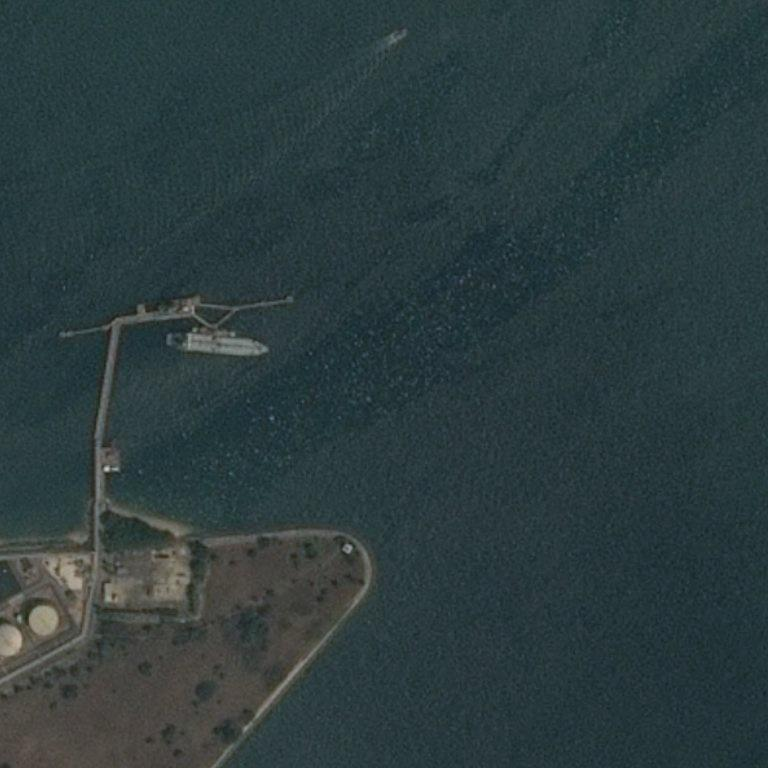ship: (165, 330, 272, 359)
